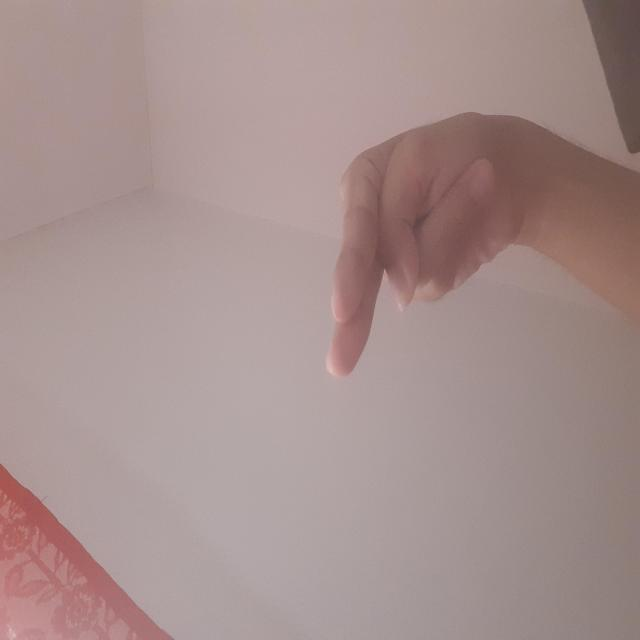N: (260, 324, 528, 514)
